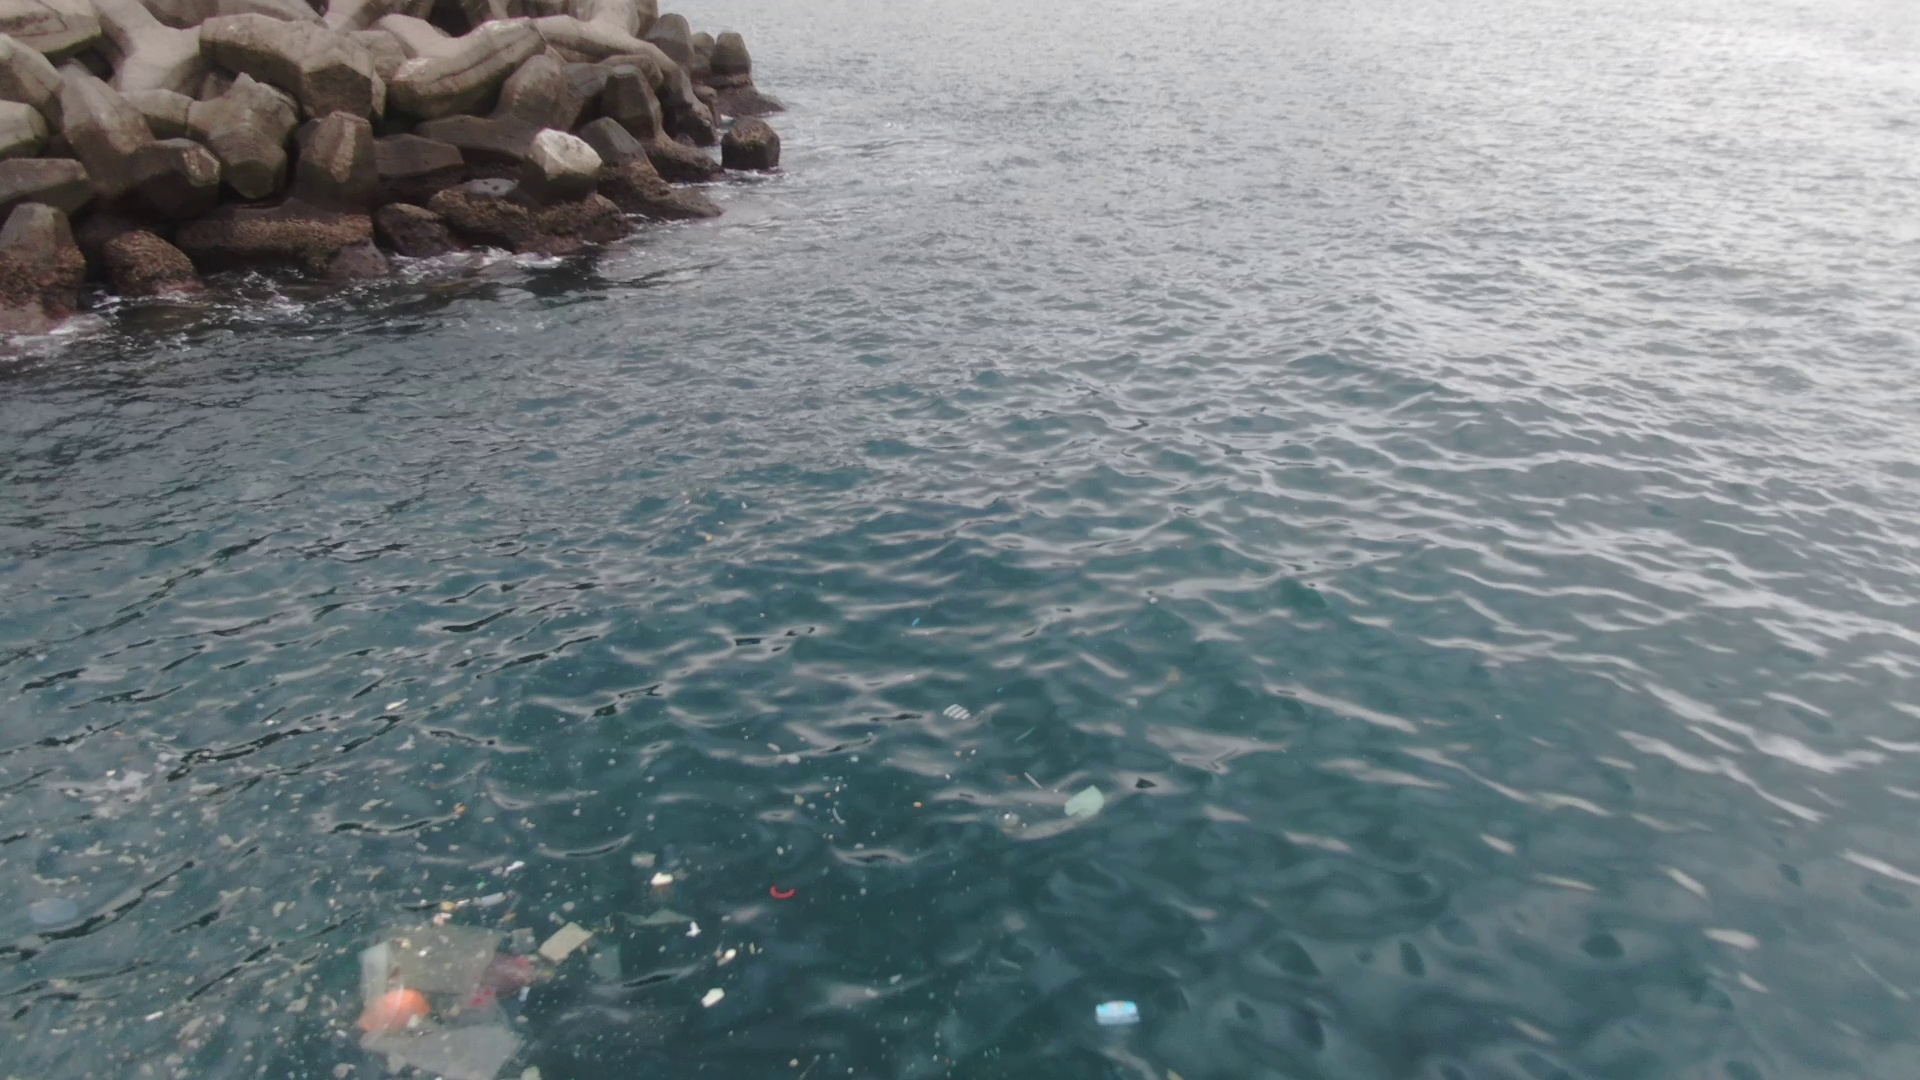garbage: (280, 825, 803, 1080), (1080, 990, 1154, 1033), (1062, 783, 1112, 822)
